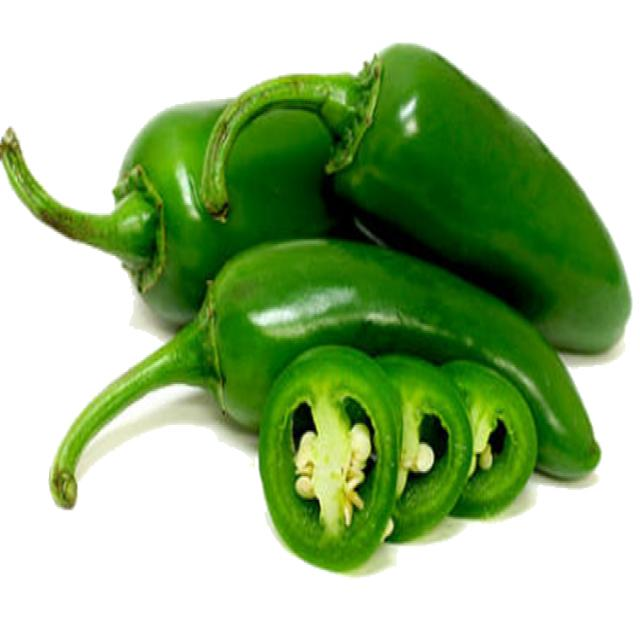aji: (334, 22, 640, 360), (184, 247, 624, 476), (256, 351, 549, 552), (110, 107, 394, 273)
